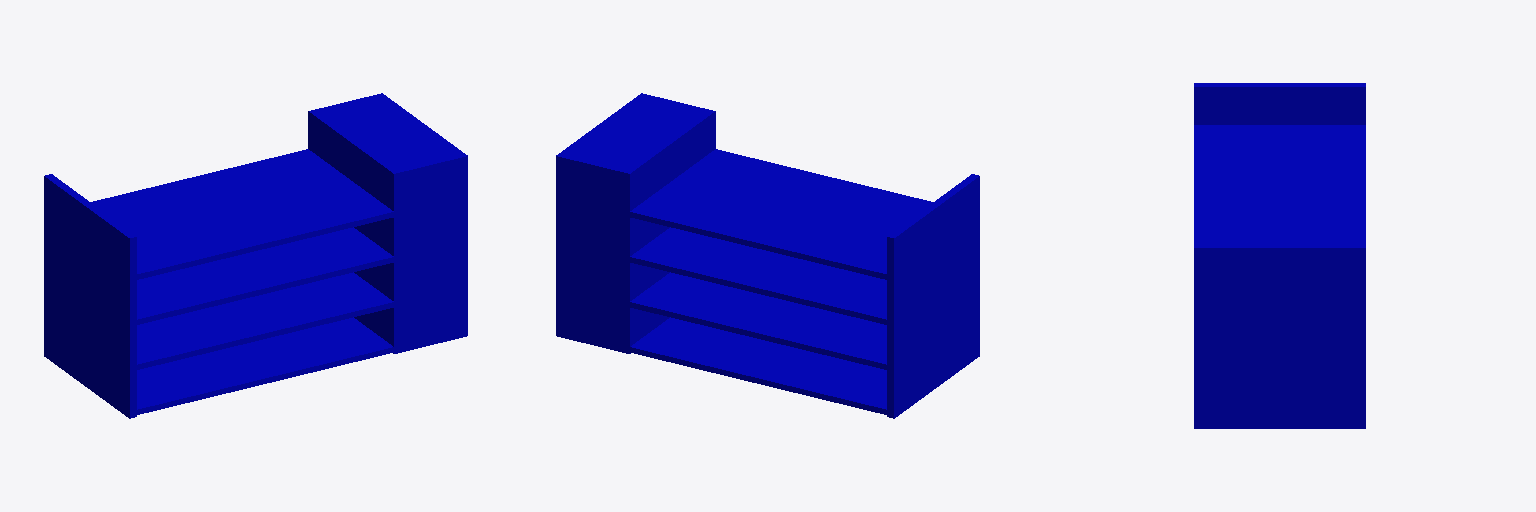
File: shelves.obj
3 views of the same model, side by side, from view 1: azimuth 30°, elevation 25°; view 2: azimuth 150°, elevation 25°; view 3: azimuth 270°, elevation 25° (orthographic).
Parts seen in each view (by area): view 1: shelves; view 2: shelves; view 3: shelves.
Boxes of the visible parts, x1,y1,x2,y2 form: shelves: [44, 93, 467, 418]; shelves: [556, 93, 979, 418]; shelves: [1194, 83, 1365, 428].
Size of the model in its own units: 3.93 by 2 by 1.73.